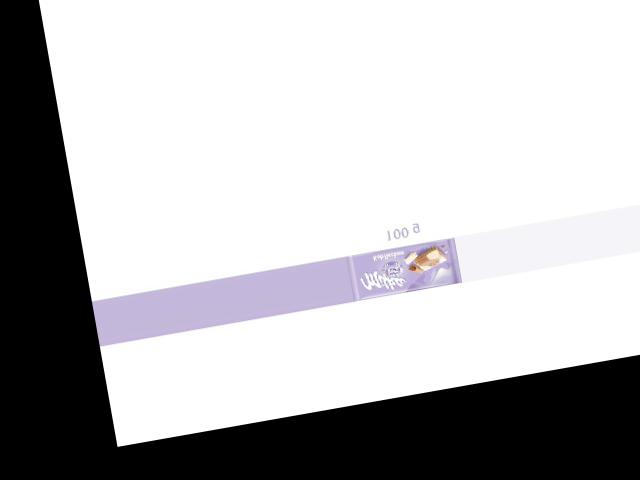chocolate: (345, 235, 462, 302)
